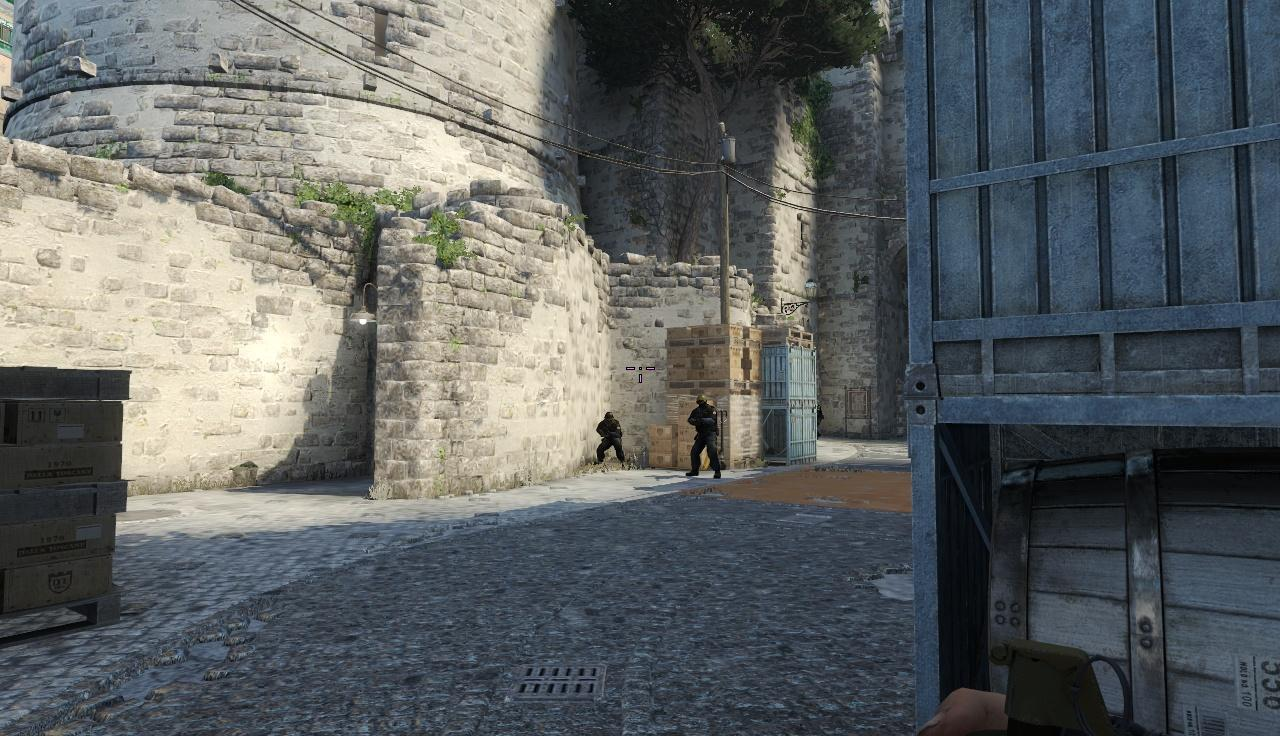ct: (687, 394, 721, 479), (596, 411, 624, 466)
cthead: (695, 394, 707, 408), (604, 412, 615, 425)
